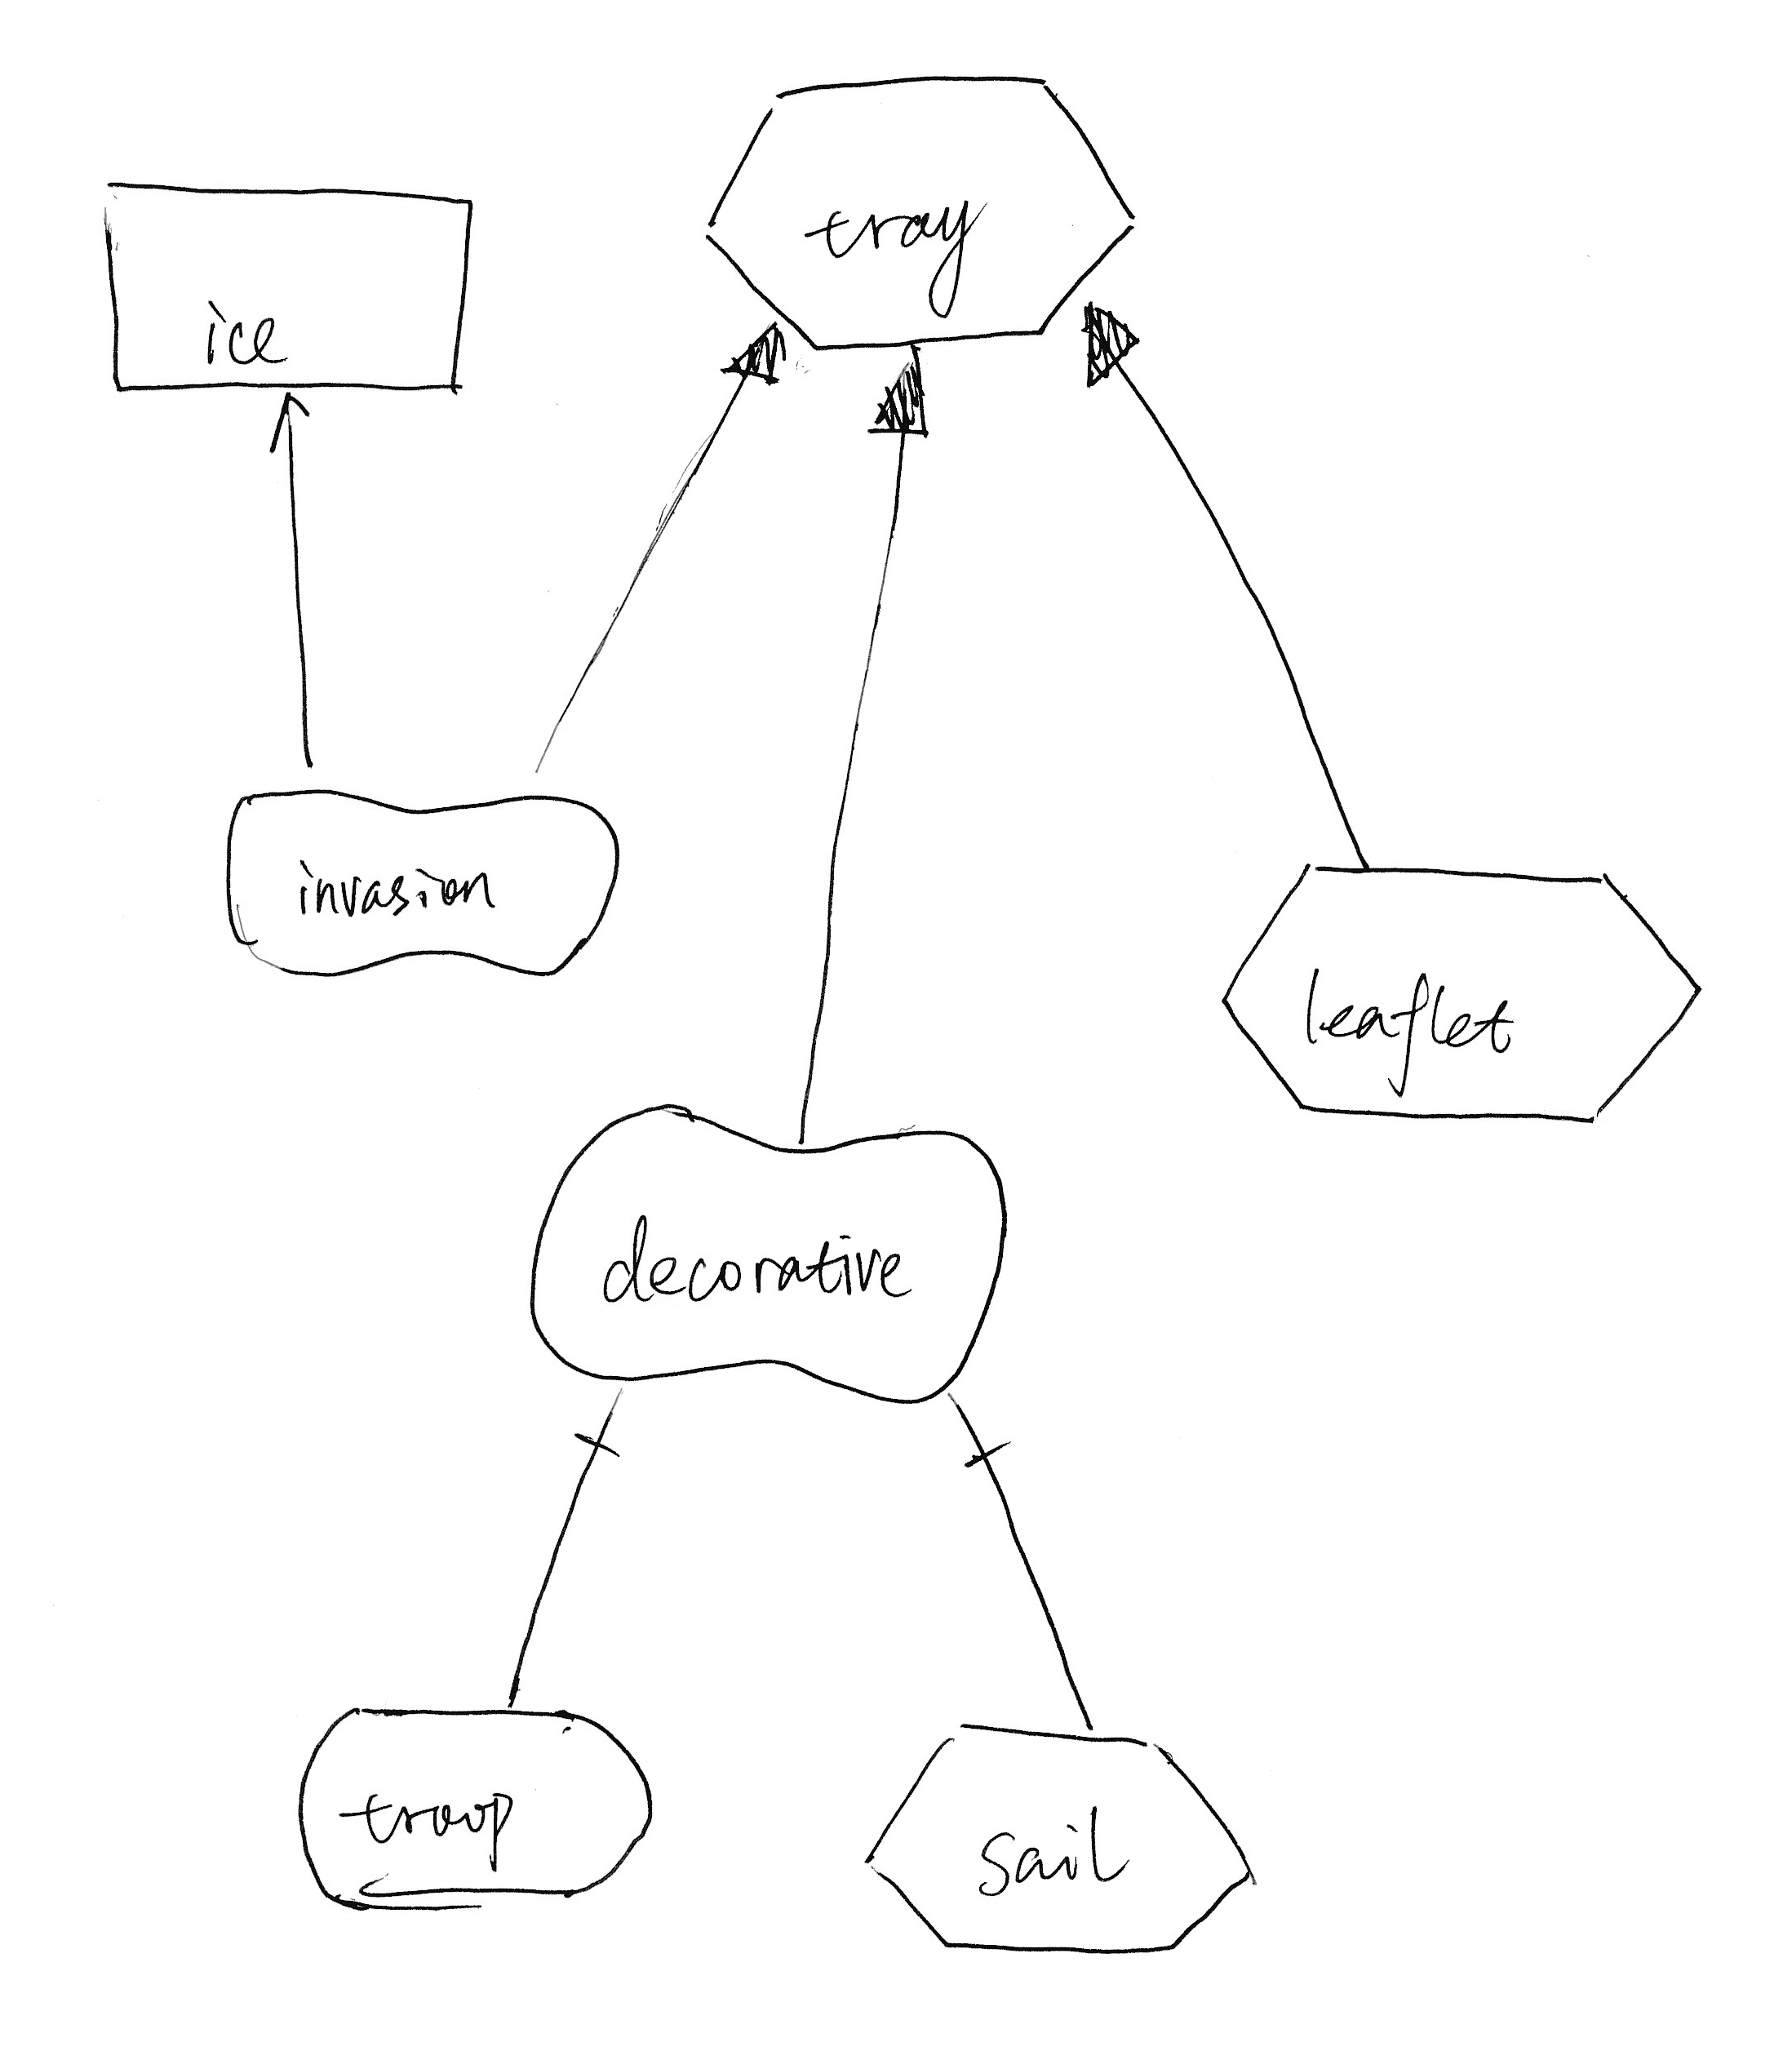and: (550, 1396, 641, 1487), (946, 1412, 1032, 1492)
arrow: (250, 392, 322, 464)
goal: (284, 1690, 676, 1930)
or: (853, 338, 948, 457), (701, 301, 801, 412), (1067, 286, 1154, 394)
quality: (511, 1086, 1021, 1419), (207, 758, 645, 1007)
resource: (72, 149, 490, 412)
task: (1207, 844, 1720, 1144), (683, 53, 1153, 361), (844, 1704, 1270, 1976)
